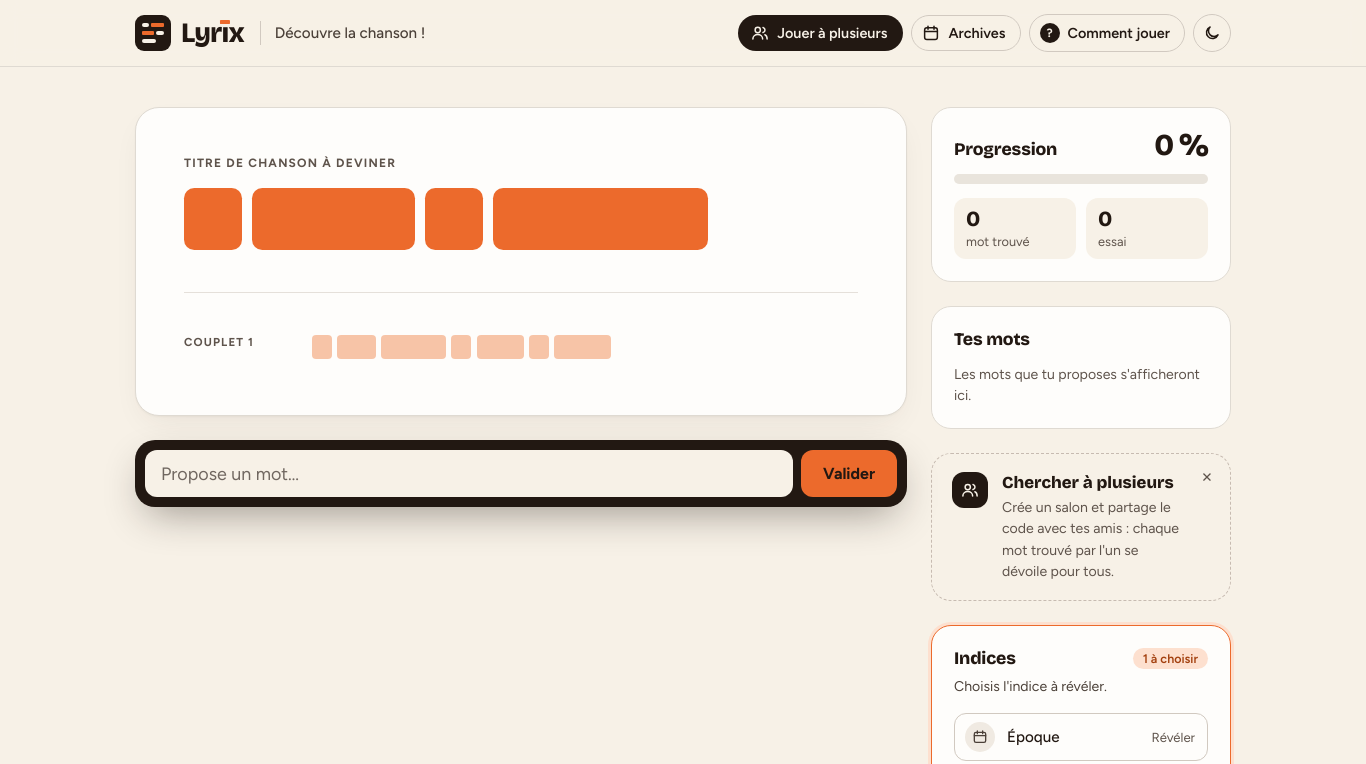
Scenario: the hints card › reveals the hint picked, without re-rendering the lyrics
The image size is (1366, 764).
Expected: the field with placeholder "Propose un mot…" is shown, [145, 450, 793, 497]
Click the button "Époque Révéler": click(1081, 737) [954, 713, 1208, 761]
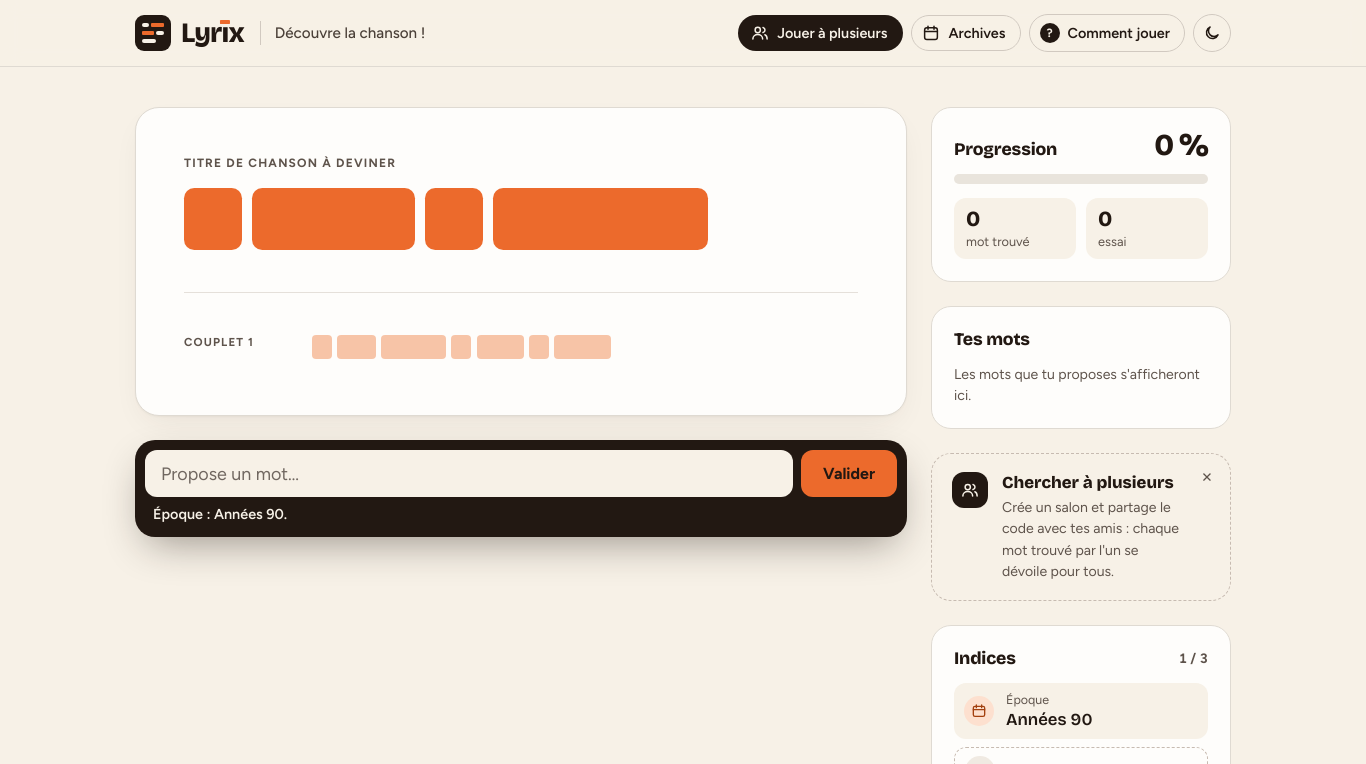
Expected: the text "Années 90" is shown, [1006, 709, 1092, 730]
Expected: the text "Époque : Années 90." is shown, [153, 505, 287, 523]
